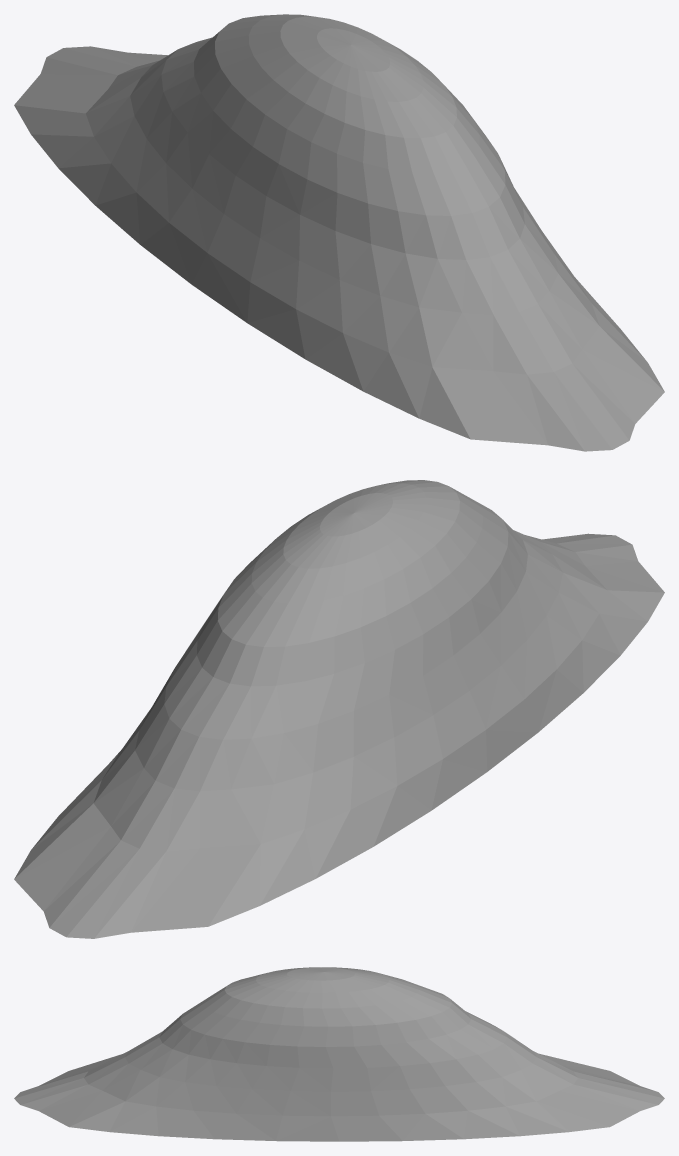
The model's file is hill.obj.
3 views of the same model, one above another, from view 1: azimuth 30°, elevation 25°; view 2: azimuth 150°, elevation 25°; view 3: azimuth 270°, elevation 25° (orthographic). The views are drawn at different scales.
Parts seen in each view (by area): view 1: 丘; view 2: 丘; view 3: 丘.
Part boxes in pixels (x1,y1,x2,y2): 丘: [14, 14, 664, 451]; 丘: [14, 480, 664, 938]; 丘: [14, 967, 664, 1141].
Bounding box in the file's own units: 3.18 × 2.2 × 10.23.
1 material, 1 textured.
